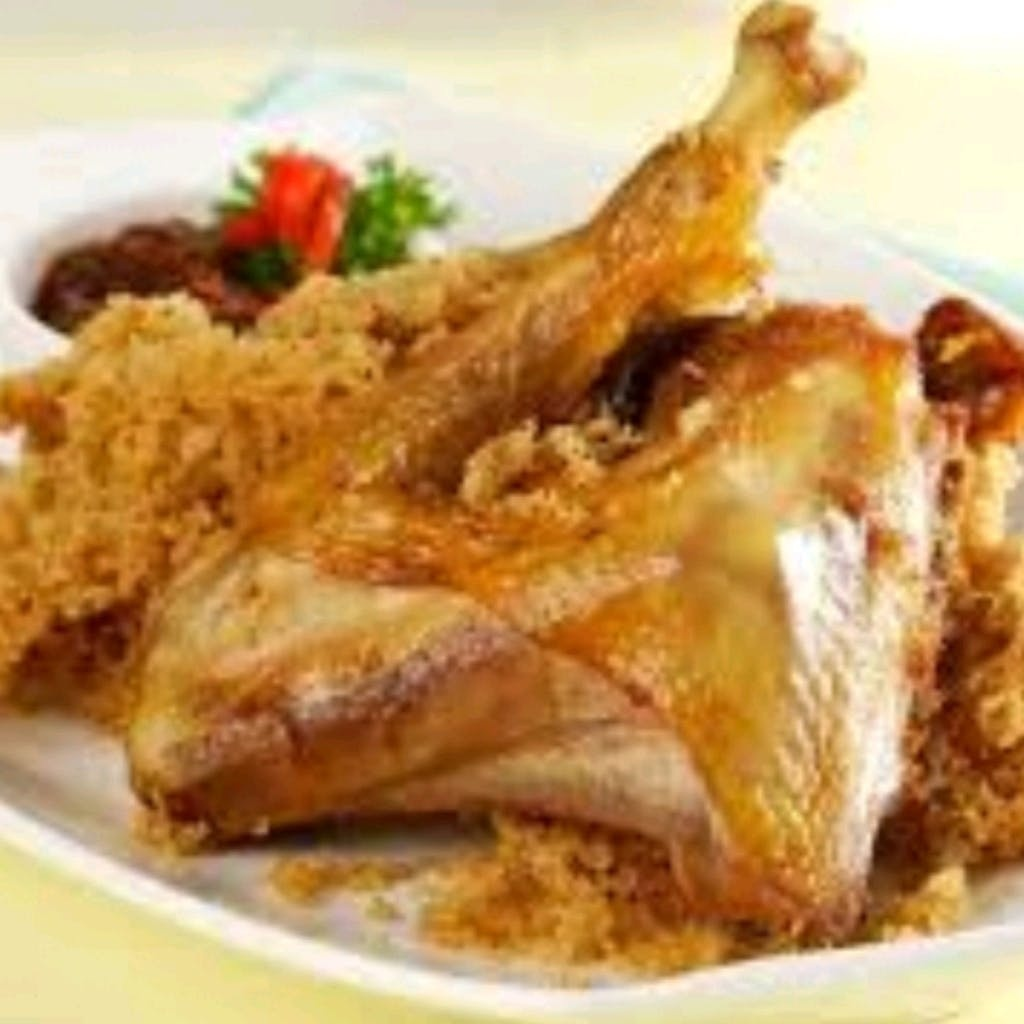ayam_goreng: (41, 169, 996, 920)
